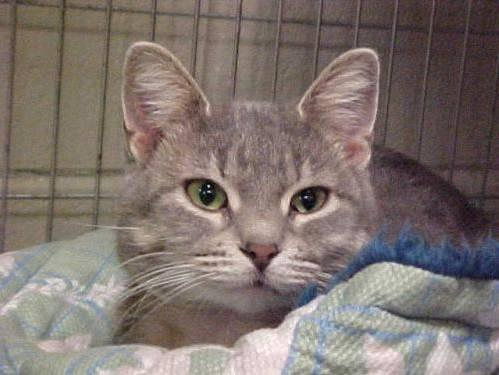cat: (109, 41, 499, 375)
